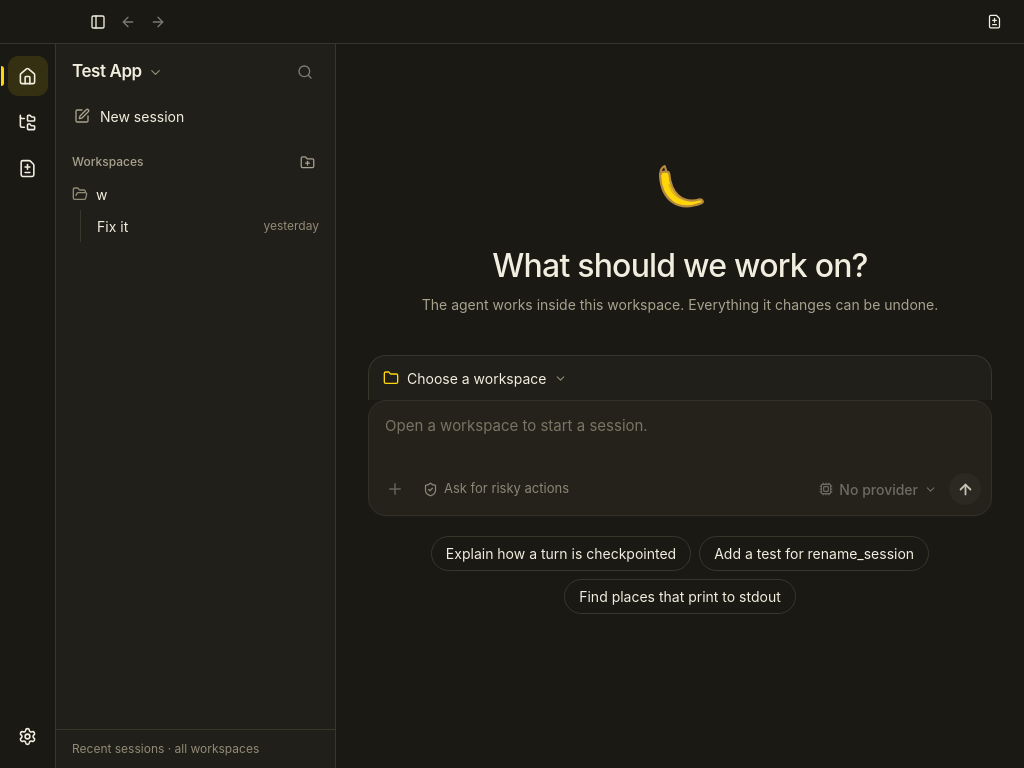
Scenario: the trust dialog › the sidebar marks a restricted workspace and stops once it is trusted
Expected: the text "Fix it" is shown, top-left (97, 218), bottom-right (128, 234)
Click the button named "Open folder" at (307,162), box top-left (295, 150), bottom-right (319, 174)
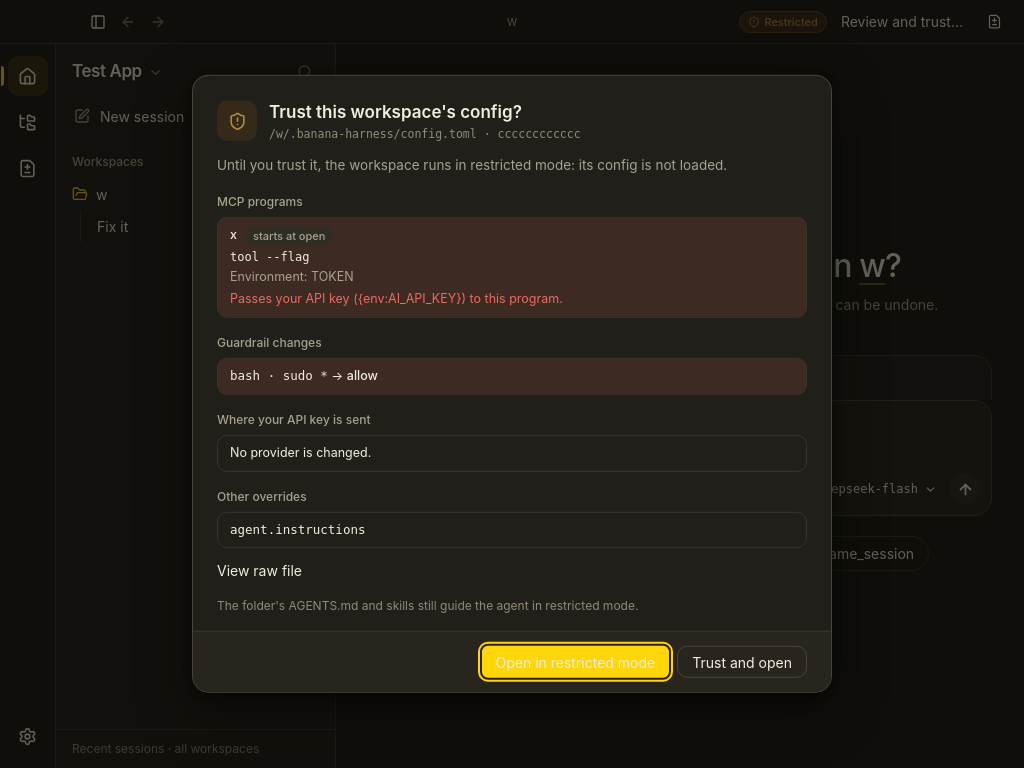
Click the button "Open in restricted mode" at (575,662), box top-left (482, 646), bottom-right (669, 678)
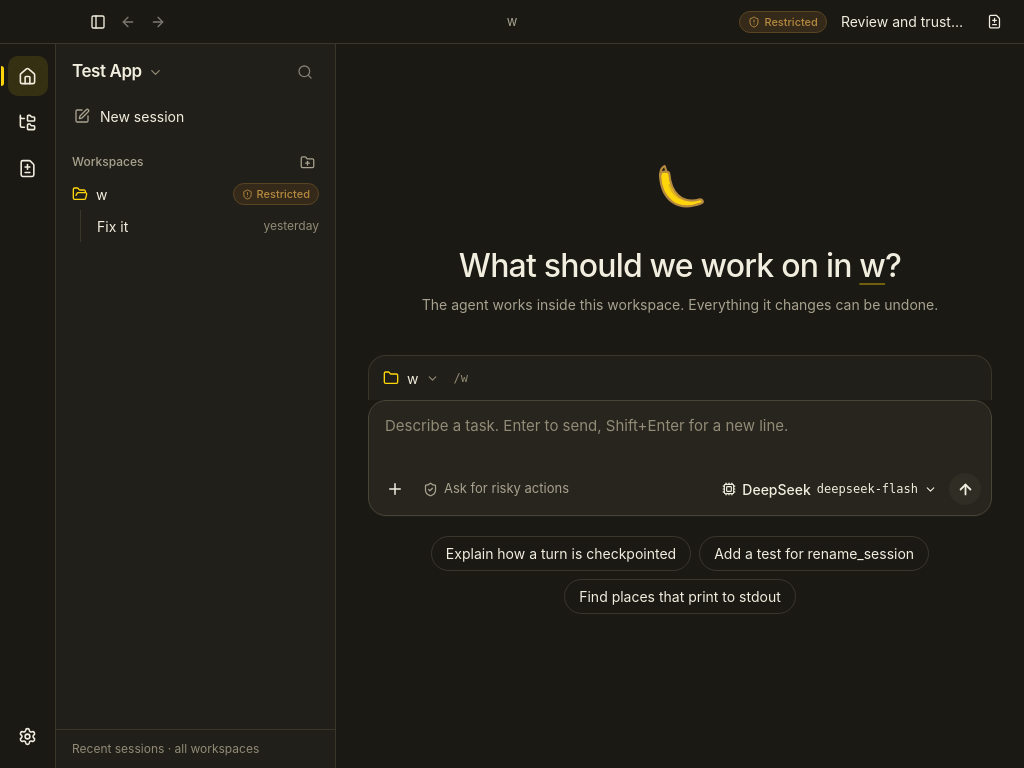
Result: the text "Restricted" below "Test App" is shown at top-left (256, 187), bottom-right (310, 201)
Click the button "Review and trust…" at (902,22), box top-left (831, 8), bottom-right (973, 36)
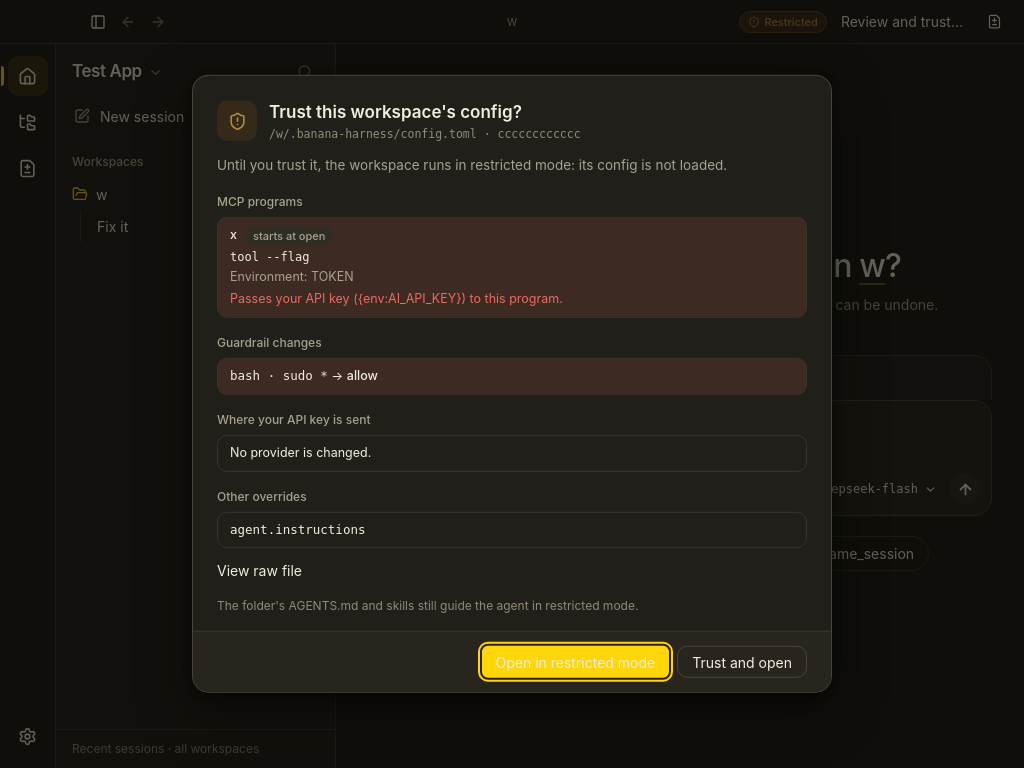
Click the button "Trust and open" at (742,662), box top-left (677, 646), bottom-right (807, 678)
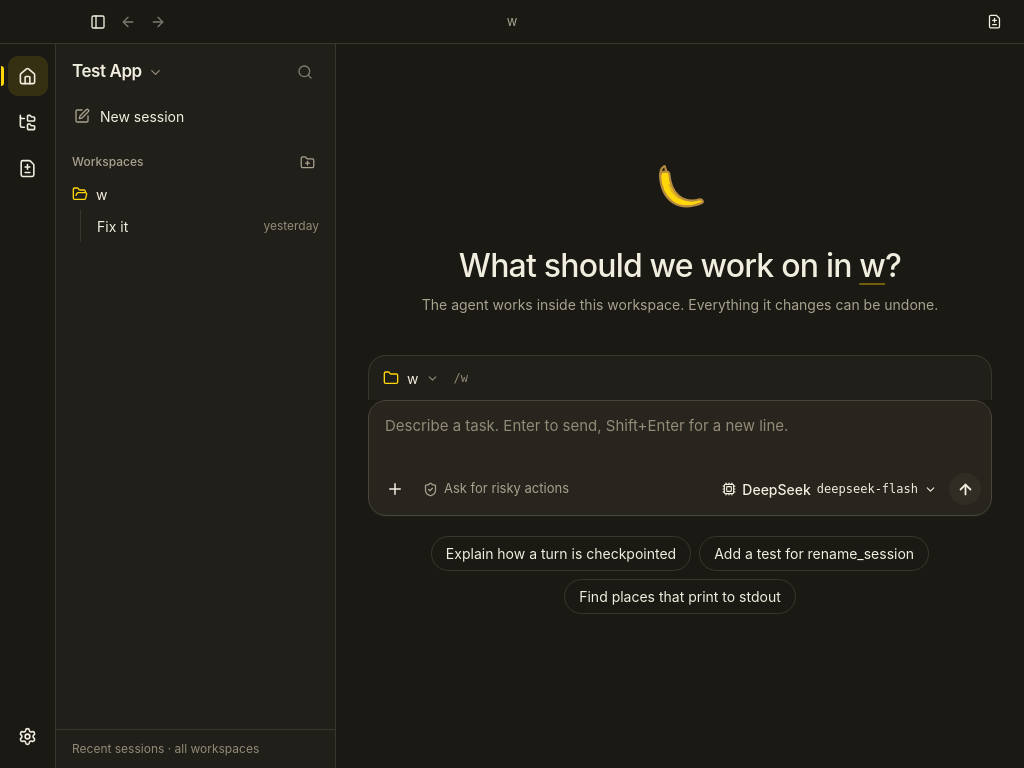
Result: the text "Restricted" is gone
